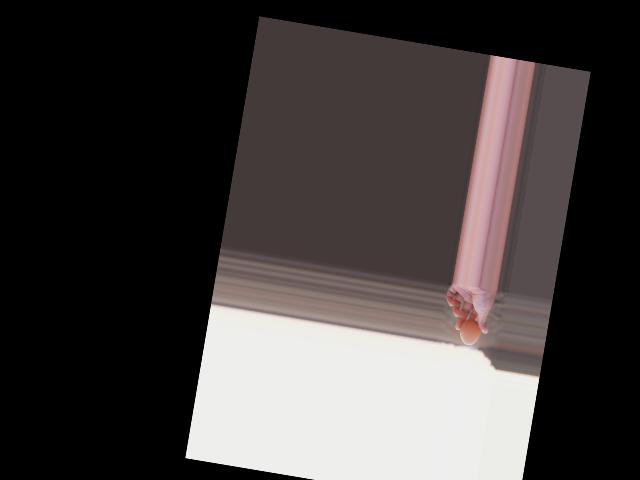egg: (457, 318, 481, 346)
